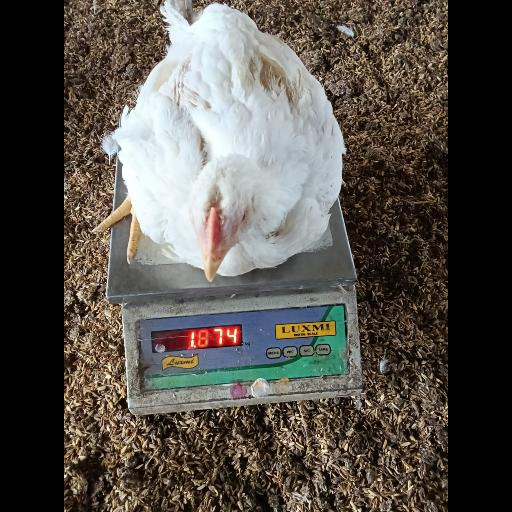chick: (96, 4, 348, 276)
